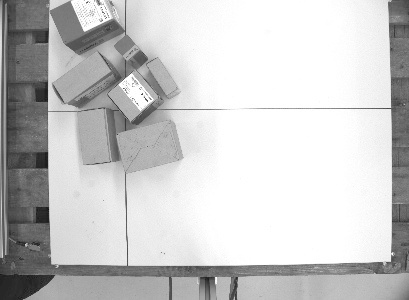b1: (144, 55, 182, 101)
b2: (73, 105, 118, 167)
b3: (112, 33, 147, 68)
b4: (47, 1, 125, 55)
b5: (113, 119, 186, 177)
b6: (50, 48, 121, 105)
b7: (105, 69, 166, 124)
